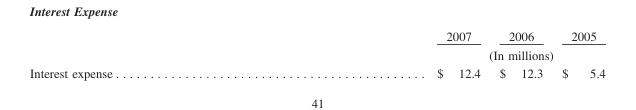table: (29, 28, 604, 79)
table column: (29, 28, 274, 79), (274, 28, 489, 79), (489, 28, 551, 79), (551, 28, 604, 79)
table column header: (29, 28, 604, 63)
table row: (29, 45, 604, 63), (29, 28, 604, 45), (29, 63, 604, 79)
table spanning cell: (274, 45, 604, 63)
